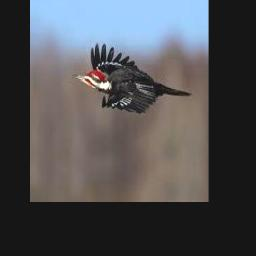Woodpecker: (72, 42, 191, 114)
